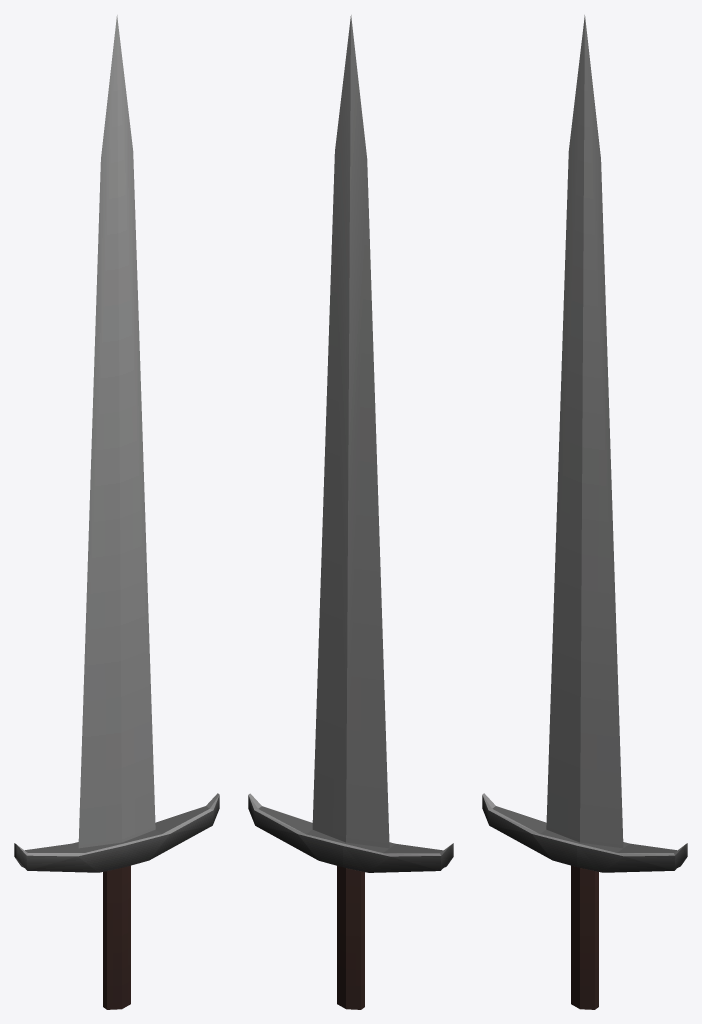
The model's file is Sword.fbx.
3 renders of one model, left to right at view 1: azimuth 30°, elevation 25°; view 2: azimuth 150°, elevation 25°; view 3: azimuth 330°, elevation 25°, orthographic.
Visible parts, largest first — view 1: Sword; view 2: Sword; view 3: Sword.
Part boxes in pixels (x1,y1,x2,y2): Sword: [14, 15, 219, 1009]; Sword: [248, 15, 453, 1009]; Sword: [482, 15, 687, 1009].
Size of the model in its own units: 23.39 by 109 by 3.16.
